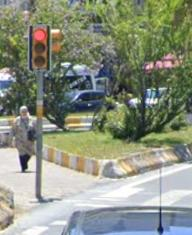redlight: (31, 25, 49, 68)
